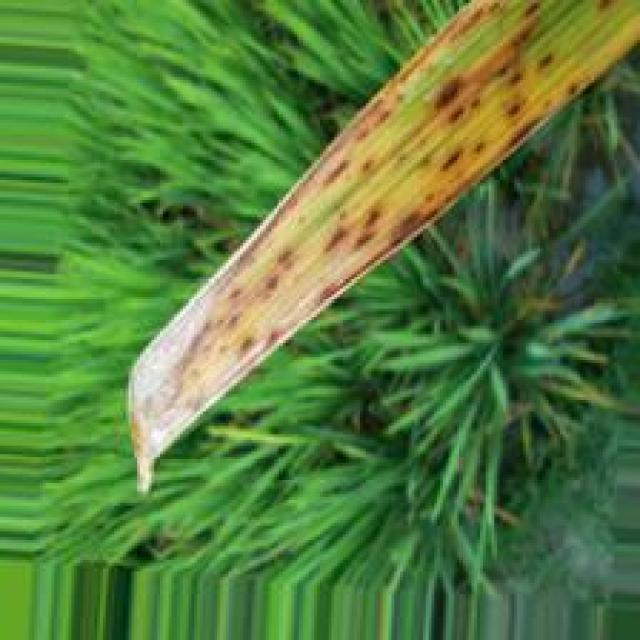Narrow_Brown_Leaf_Spot: (124, 0, 640, 497)
